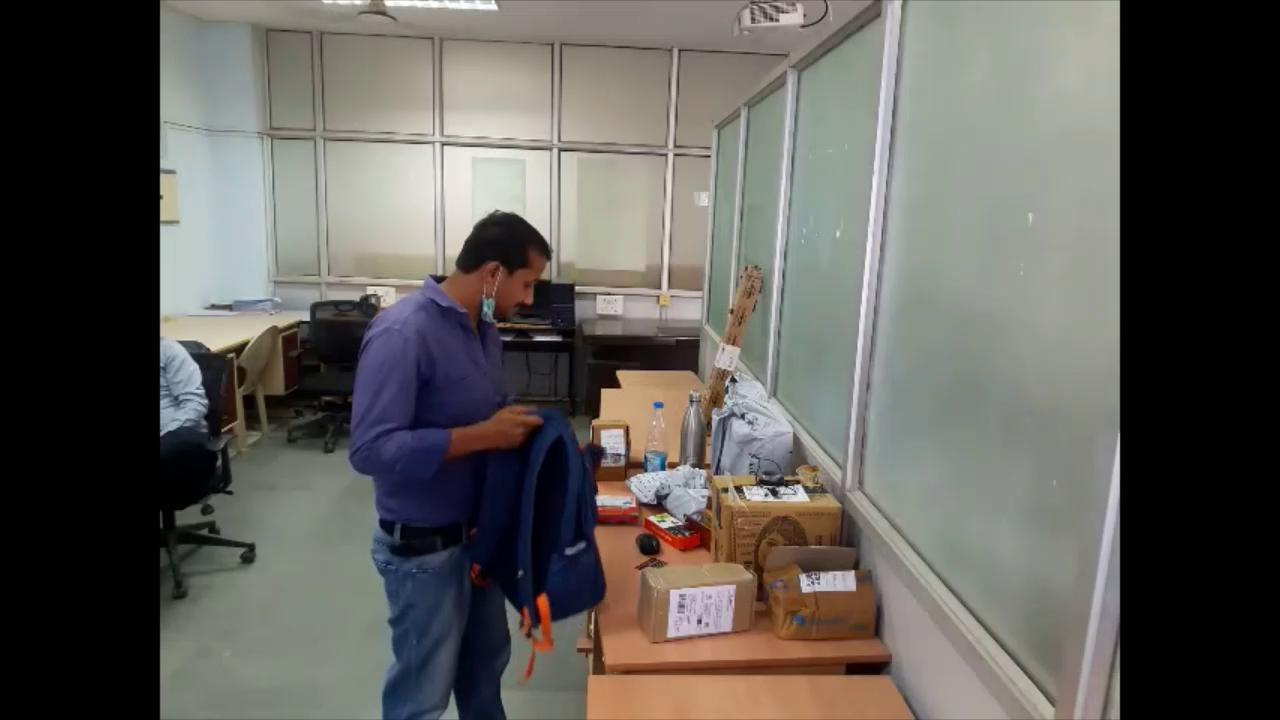shoplifting: (334, 208, 602, 716)
